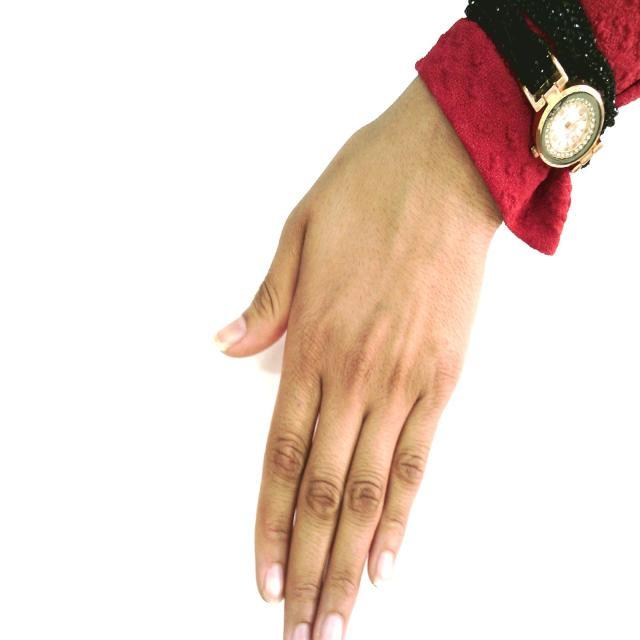Fingernail: (216, 317, 246, 347), (374, 551, 394, 585), (264, 564, 282, 600), (320, 613, 344, 639), (293, 623, 310, 639)
